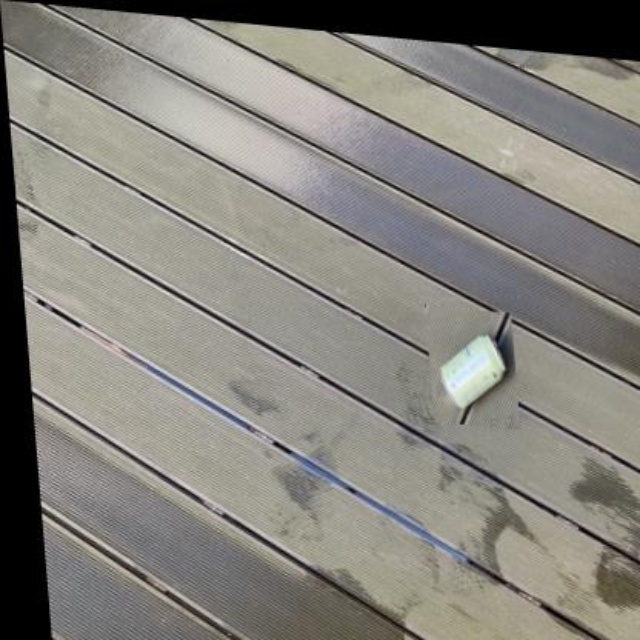trash: (442, 335, 505, 408)
